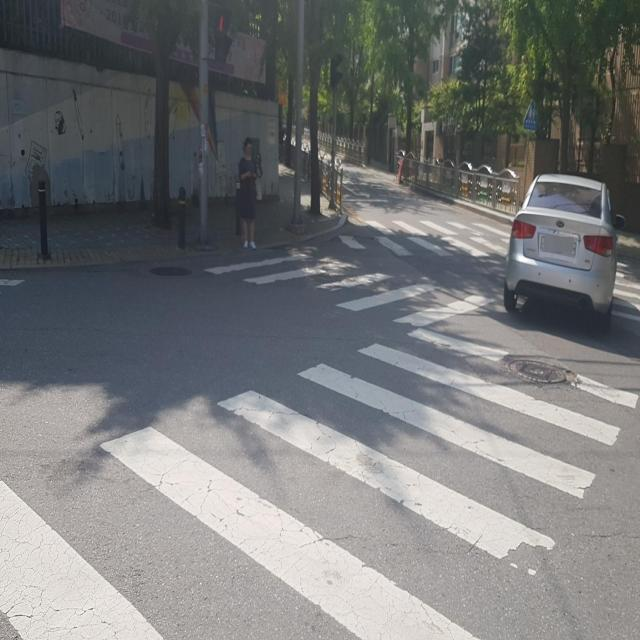횡단보도: (0, 327, 640, 640), (208, 258, 487, 324), (346, 212, 518, 258)
